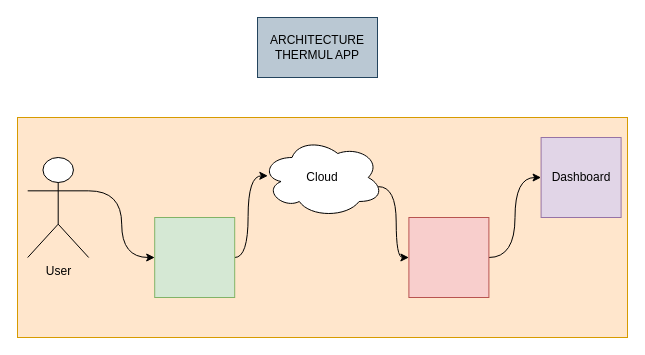
Some shapes in this 645 by 355 pixel diagram are drawn without their labels. The box of each missing label's shape, as (x1, y1, x2, y2) in pixels:
Firebase: (408, 216, 489, 298)
Thermul App: (154, 216, 235, 298)
